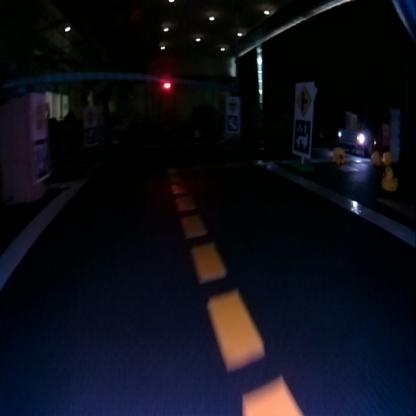Duckie: (381, 167, 398, 191), (334, 146, 344, 162), (371, 151, 379, 164)
Duckiebot: (338, 127, 373, 156)
Intersection sign: (295, 85, 311, 113), (226, 98, 238, 110)
QR code: (32, 138, 48, 178), (293, 118, 309, 154), (224, 115, 238, 132)
Traffic light: (161, 80, 172, 92)
